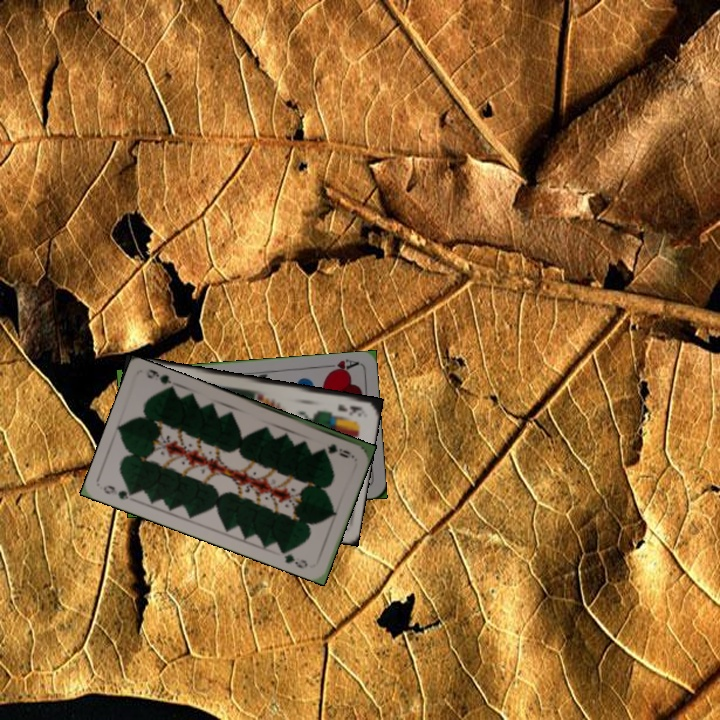EK: (334, 400, 365, 416)
G9: (99, 481, 139, 502), (317, 440, 355, 460)
HA: (320, 355, 361, 377)
